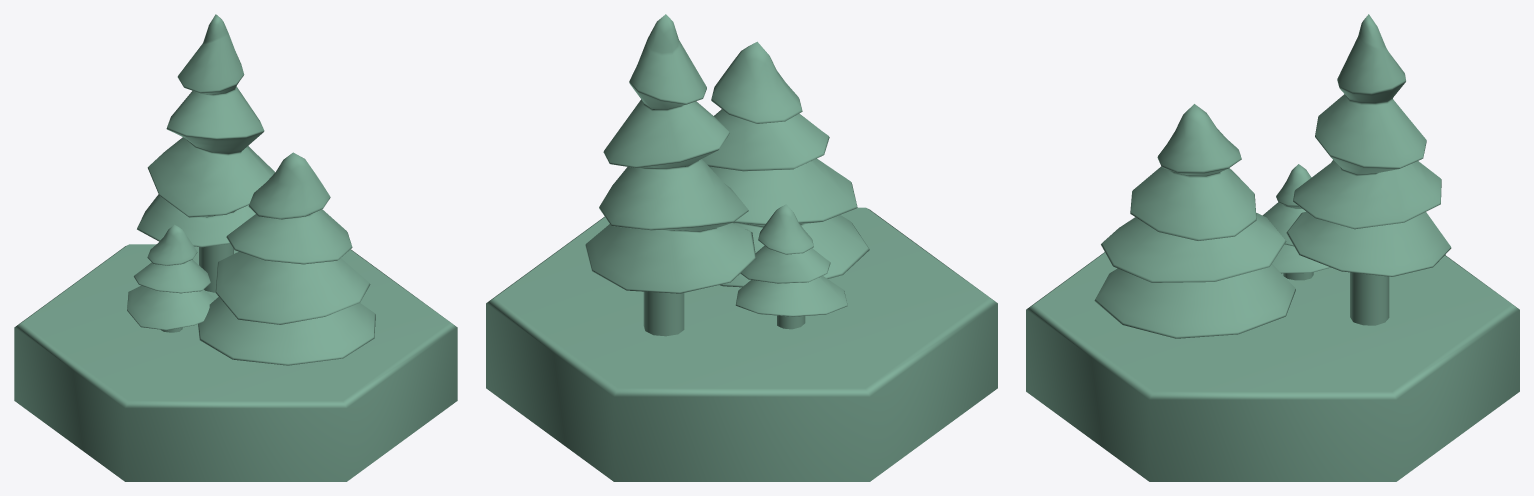
File: 2_fir.fbx
3 renders of one model, left to right at view 1: azimuth 30°, elevation 25°; view 2: azimuth 150°, elevation 25°; view 3: azimuth 270°, elevation 25°, orthographic. The views are drawn at different scales.
Parts seen in each view (by area): view 1: pCylinder1, pCone15; view 2: pCylinder1, pCone15; view 3: pCylinder1, pCone15.
Boxes of the visible parts, x1,y1,x2,y2 form: pCylinder1: (14,244,457,481); pCone15: (127,14,375,365); pCylinder1: (486,207,997,481); pCone15: (585,14,869,336); pCylinder1: (1026,252,1519,481); pCone15: (1094,14,1451,338).
Size of the model in its own units: 4.05 by 4.08 by 4.68.
